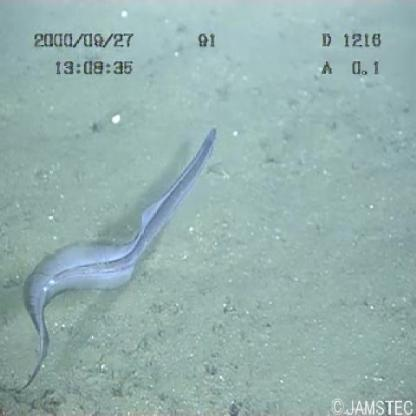Bio: (15, 121, 221, 394)
